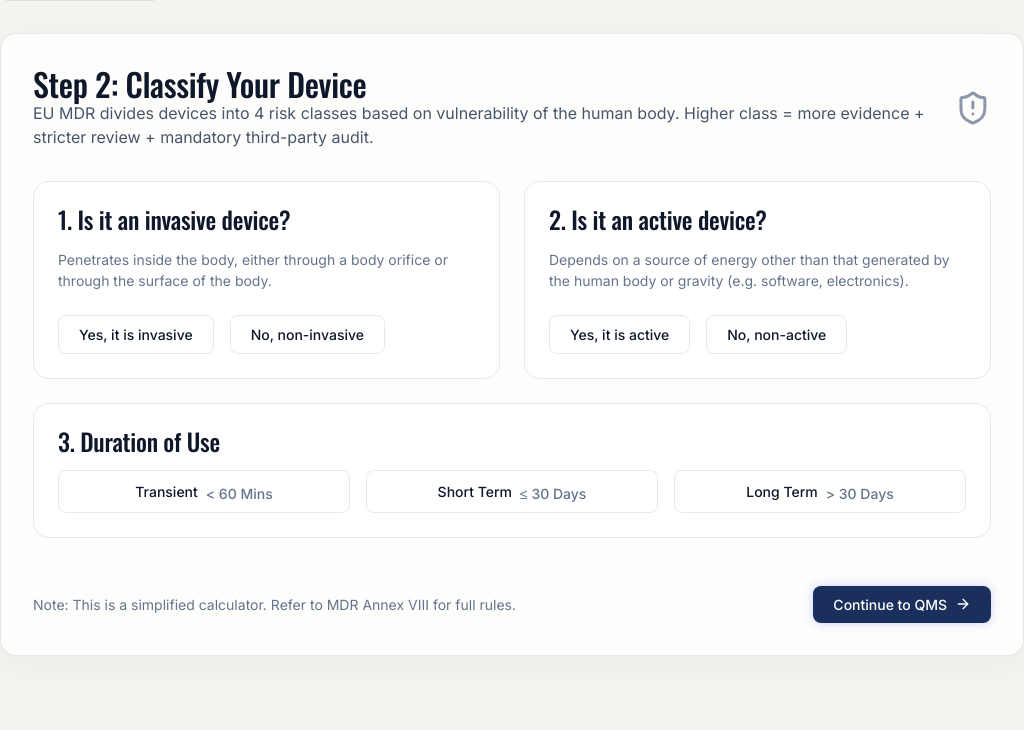
Test: Step2 component › step2.inv.02: Continue enabled when result is shown
Click the button "No, non-invasive".
click(307, 334)  # box [230, 315, 385, 354]
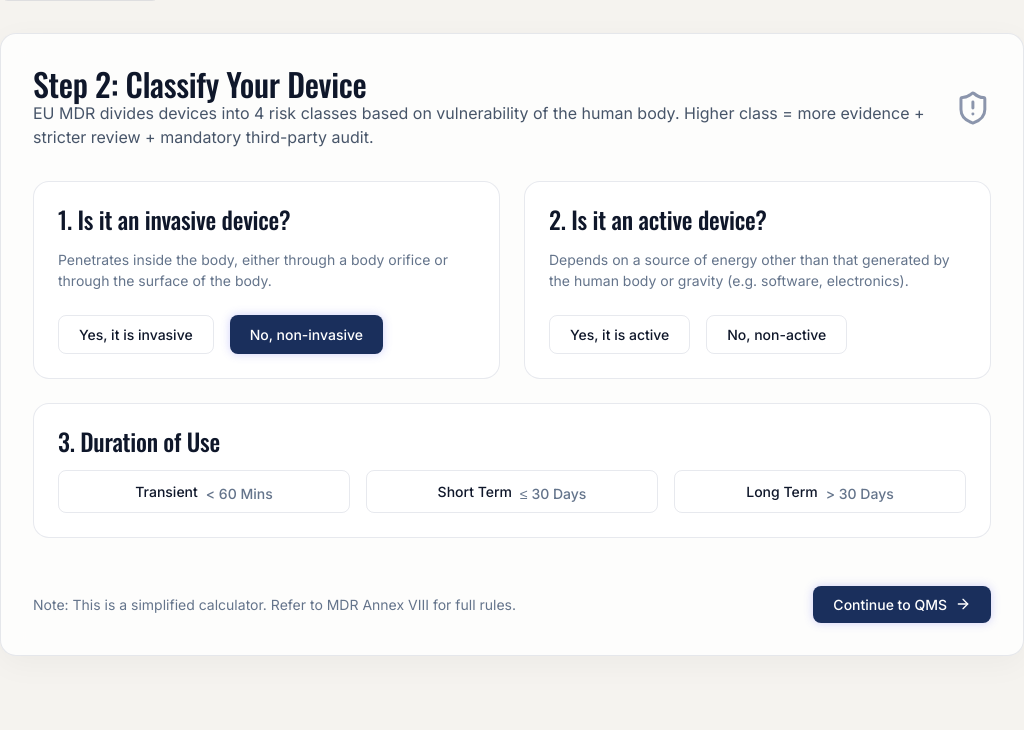
Click the button "No, non-active".
click(777, 334)  # box [706, 315, 847, 354]
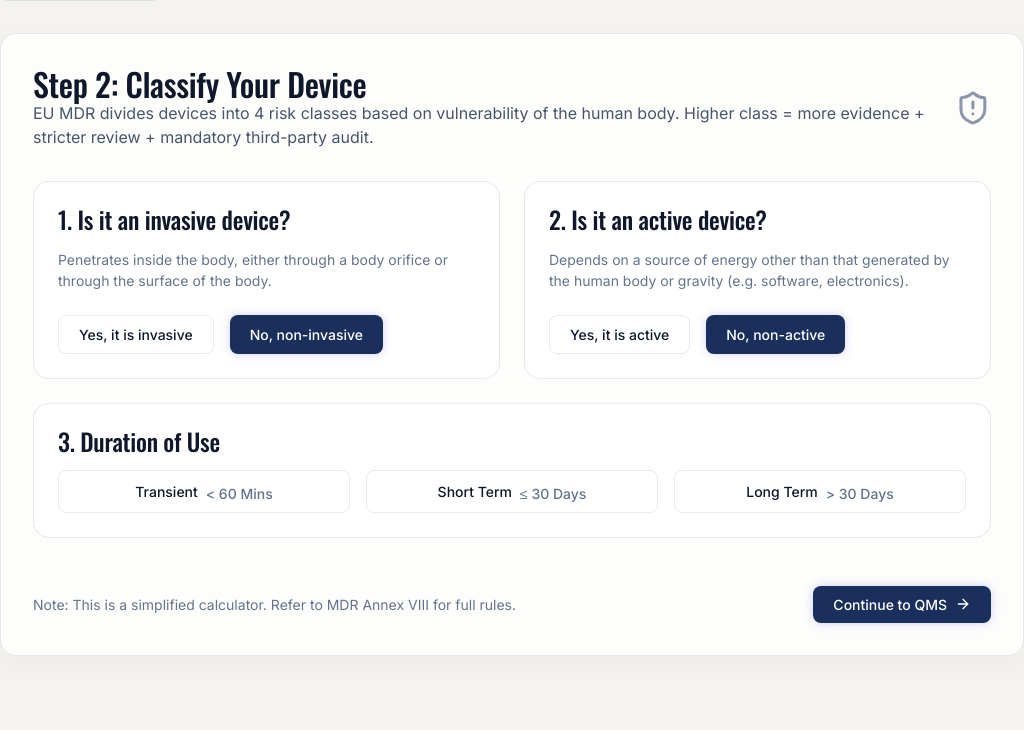
Click the button "transient < 60 mins".
click(204, 492)  # box [58, 470, 350, 513]
(page scrolled)
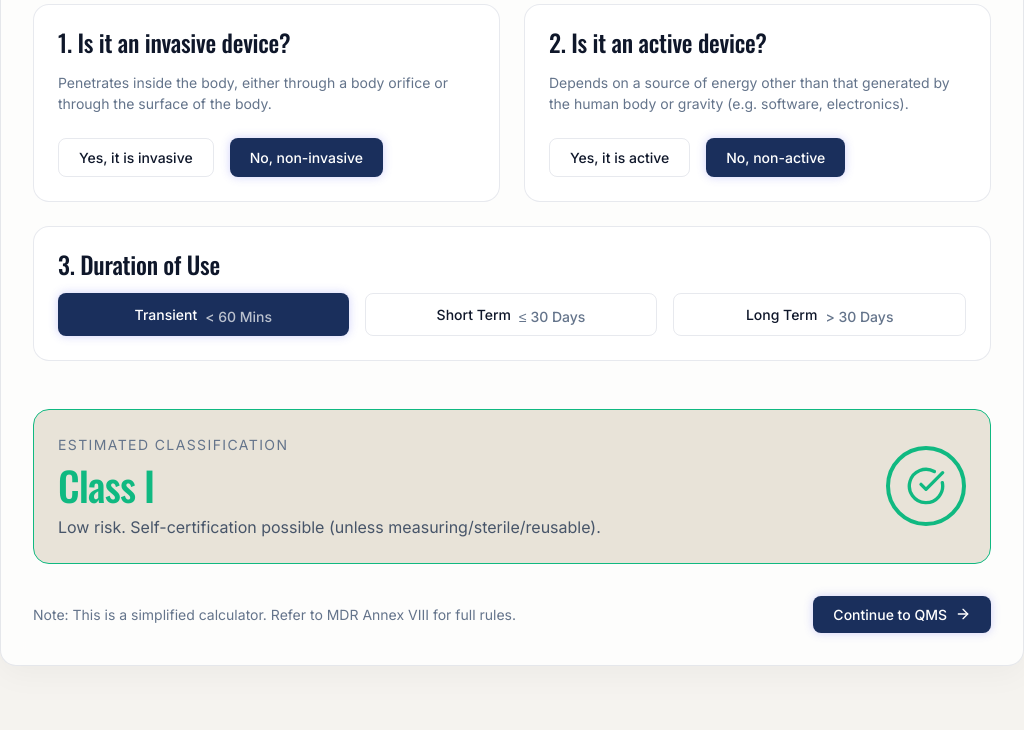
Now the button "Continue to QMS" is enabled, box [813, 596, 991, 633]
